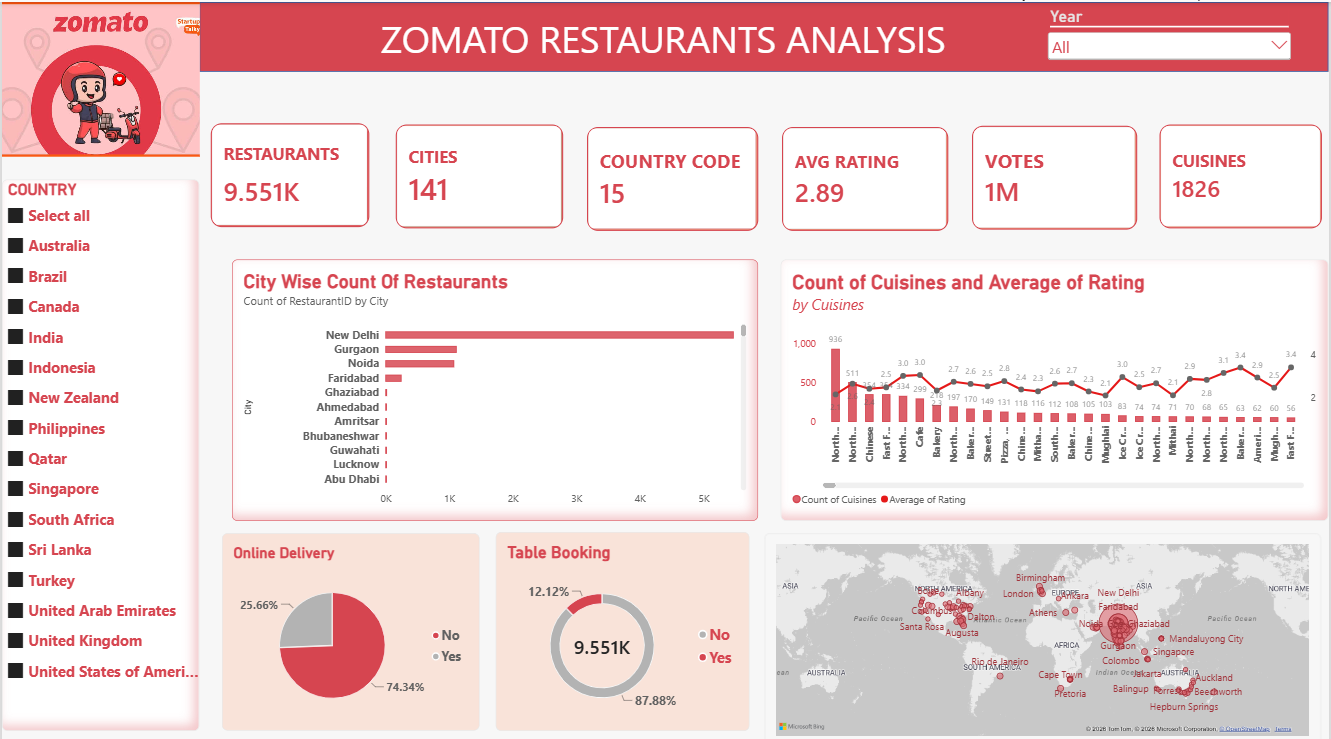

This screenshot's page, from the dashboard's own definition file:
{"tool":"powerbi","page":{"name":"Page 2","canvas":[1920,1080],"ordinal":0},"visuals":[{"type":"shape","box":[286.1,0,1634.3,100.9],"z":0},{"type":"textbox","box":[547.5,16.5,1307,308.7],"z":1000},{"type":"cardVisual","title":"Count of restaurant ID","fields":{"Data":["Count(restaurants.RestaurantID)"]},"box":[302.2,175.5,229.8,150.2],"z":2000},{"type":"cardVisual","title":"Count of restaurant ID","fields":{"Data":["Count(restaurants.City)"]},"box":[570,177.3,242.5,150.2],"z":3000},{"type":"cardVisual","title":"Count of restaurant ID","fields":{"Data":["Sum(restaurants.Votes)"]},"box":[1404.3,179.2,238.9,150.2],"z":4000},{"type":"cardVisual","title":"Count of restaurant ID","fields":{"Data":["Avg(restaurants.Rating)"]},"box":[1129.2,181,240.7,150.2],"z":5000},{"type":"cardVisual","title":"Count of restaurant ID","fields":{"Data":["Count(restaurants.CountryCode)"]},"box":[846.9,181,247.9,150.2],"z":6000},{"type":"cardVisual","title":"Count of restaurant ID","fields":{"Data":["Count(restaurants.Cuisines)"]},"box":[1675.7,177.3,235.3,150.2],"z":7000},{"type":"slicer","fields":{"Values":["countries.country name"]},"box":[0,251.5,285.9,760.1],"z":8000},{"type":"lineStackedColumnComboChart","fields":{"Category":["restaurants.Cuisines"],"Y":["CountNonNull(restaurants.Cuisines)"],"Y2":["Avg(restaurants.Rating)"]},"box":[1127.4,372.8,792.6,378.2],"z":9000},{"type":"clusteredBarChart","title":"City Wise Count Of Restaurants","fields":{"Category":["restaurants.City"],"Y":["CountNonNull(restaurants.RestaurantID)"]},"box":[333,372.8,761.9,378.2],"z":10000},{"type":"map","fields":{"Category":["restaurants.City"],"Size":["CountNonNull(restaurants.RestaurantID)"]},"box":[1103.9,769.1,805.3,311.3],"z":11000},{"type":"pieChart","title":"Online Delivery","fields":{"Category":["restaurants.Has_Online_delivery"],"Y":["CountNonNull(restaurants.RestaurantID)"]},"box":[318.5,769.1,372.8,285.9],"z":12000},{"type":"donutChart","title":"Table Booking","fields":{"Category":["restaurants.Has_Table_booking"],"Y":["CountNonNull(restaurants.RestaurantID)"]},"box":[714.8,767.3,367.4,287.7],"z":13000},{"type":"slicer","fields":{"Values":["restaurants.Datekey_Opening.Variation.Date Hierarchy.Year"]},"box":[1509.3,7.2,361.9,85.1],"z":14000},{"type":"image","box":[0,0,286.1,224.4],"z":14005}]}

Visuals, with their boxes in screenshot pixels (x1, y1, x2, y2), scaled from the page's 1920x1080 canvas onto the 1331x739 screenshot:
shape: x1=198 y1=0 x2=1330 y2=69
textbox: x1=380 y1=11 x2=1286 y2=223
"Count of restaurant ID" cardVisual: x1=209 y1=120 x2=369 y2=223
"Count of restaurant ID" cardVisual: x1=395 y1=121 x2=563 y2=224
"Count of restaurant ID" cardVisual: x1=974 y1=123 x2=1139 y2=225
"Count of restaurant ID" cardVisual: x1=783 y1=124 x2=950 y2=227
"Count of restaurant ID" cardVisual: x1=587 y1=124 x2=759 y2=227
"Count of restaurant ID" cardVisual: x1=1162 y1=121 x2=1325 y2=224
slicer - countries.country name: x1=0 y1=172 x2=198 y2=692
lineStackedColumnComboChart - restaurants.Cuisines x CountNonNull(restaurants.Cuisines): x1=782 y1=255 x2=1330 y2=514
"City Wise Count Of Restaurants" clusteredBarChart: x1=231 y1=255 x2=759 y2=514
map - restaurants.City x CountNonNull(restaurants.RestaurantID): x1=765 y1=526 x2=1324 y2=738
"Online Delivery" pieChart: x1=221 y1=526 x2=479 y2=722
"Table Booking" donutChart: x1=496 y1=525 x2=750 y2=722
slicer - restaurants.Datekey_Opening.Variation.Date Hierarchy.Year: x1=1046 y1=5 x2=1297 y2=63
image: x1=0 y1=0 x2=198 y2=154
